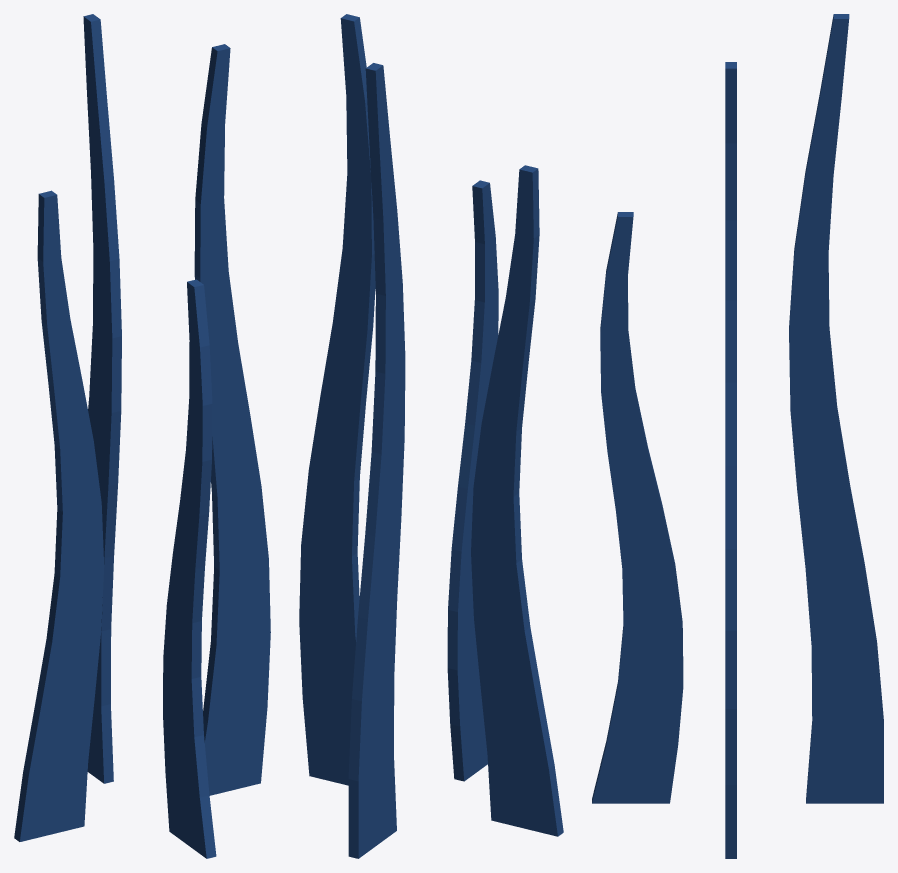
Rendered from ink_kelp.glb.
3 views of the same model, side by side, from view 1: azimuth 30°, elevation 25°; view 2: azimuth 150°, elevation 25°; view 3: azimuth 270°, elevation 25° (orthographic). The views are drawn at different scales.
Visible parts, largest first — view 1: ink_kelp; view 2: ink_kelp; view 3: ink_kelp.
Part boxes in pixels (x1,y1,x2,y2): ink_kelp: (14,14,270,858); ink_kelp: (299,14,563,858); ink_kelp: (592,14,883,858).
Bounding box in the file's own units: 0.7761 × 2.22 × 0.7491.
